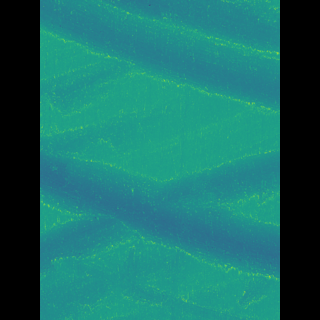Loch: (70, 134, 250, 283), (69, 0, 250, 113)
